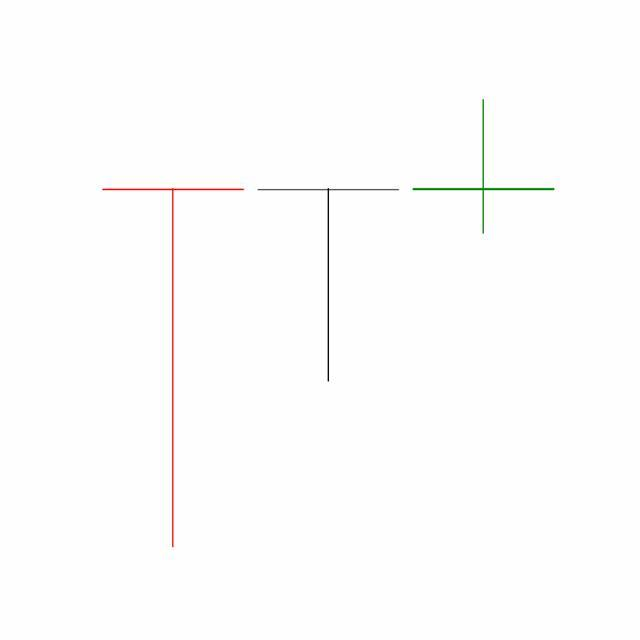Dragonfly Doji: (250, 187, 407, 385)
